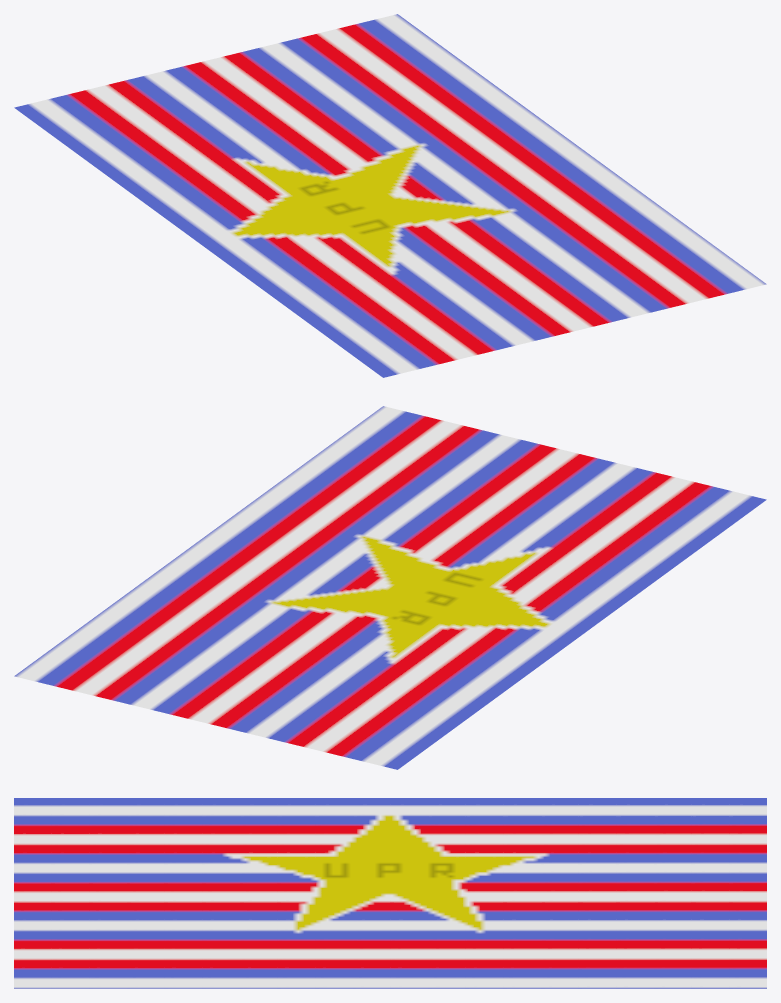
File: uprflag.fbx
3 renders of one model, top to bottom at view 1: azimuth 30°, elevation 25°; view 2: azimuth 150°, elevation 25°; view 3: azimuth 270°, elevation 25°, orthographic.
Visible parts, largest first — view 1: Plane; view 2: Plane; view 3: Plane.
Part boxes in pixels (bbox=[...]): Plane: bbox=[14, 14, 766, 377]; Plane: bbox=[14, 406, 766, 769]; Plane: bbox=[14, 798, 766, 988].
Bounding box in the file's own units: 91.44 × 0 × 152.
Materials: 1 (1 with a texture image).
